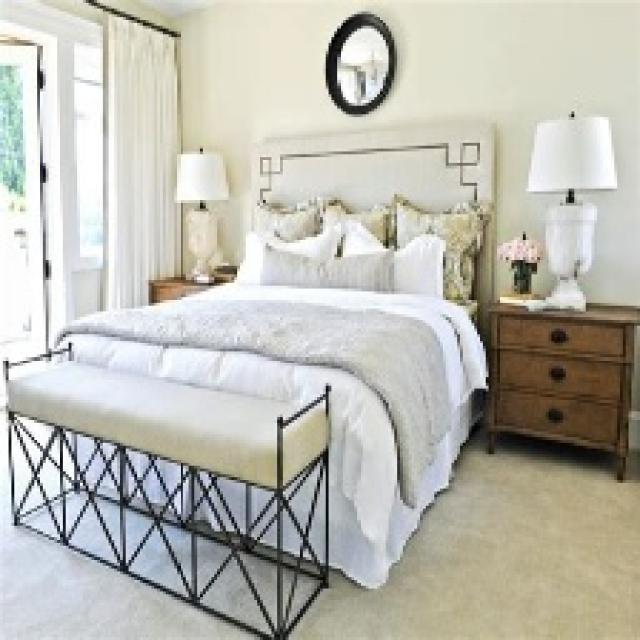Bed: (49, 120, 494, 589)
